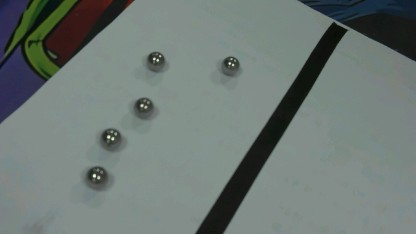ironball: (81, 159, 115, 188), (142, 44, 165, 77), (100, 123, 126, 150), (218, 51, 242, 79), (132, 92, 156, 120)
